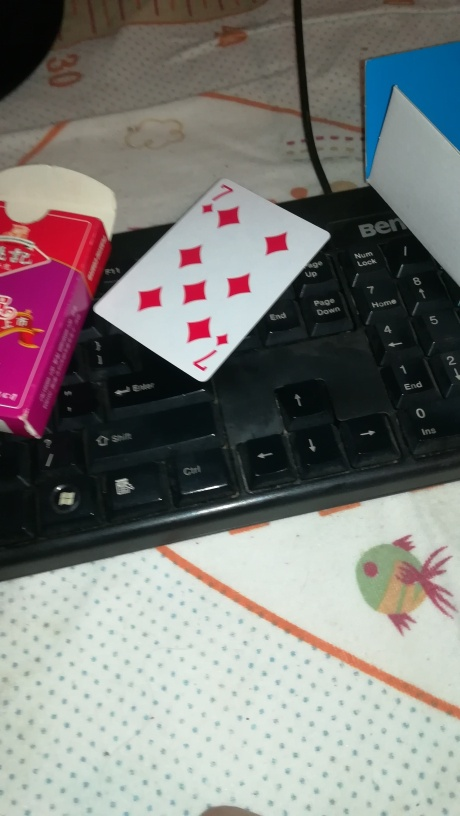fk 7: (92, 175, 331, 383)
